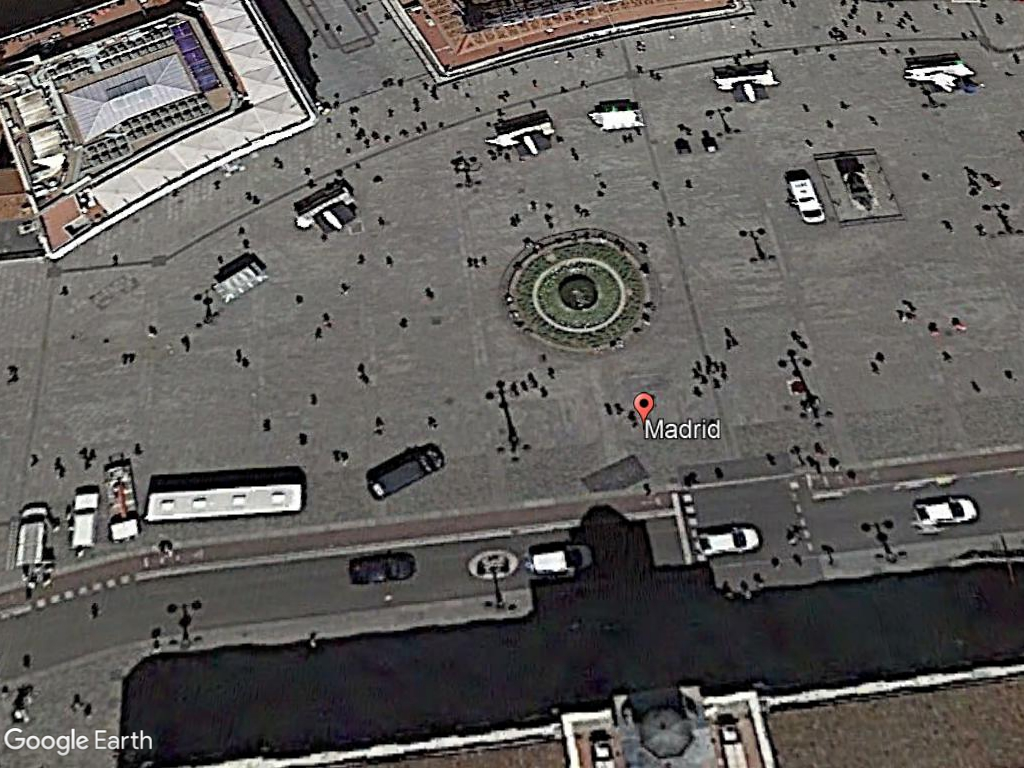bus: (143, 485, 306, 524)
car: (521, 544, 600, 578), (909, 495, 982, 528), (690, 526, 762, 558), (345, 554, 420, 584)
van: (365, 439, 444, 504), (784, 175, 829, 227), (71, 489, 100, 555)
